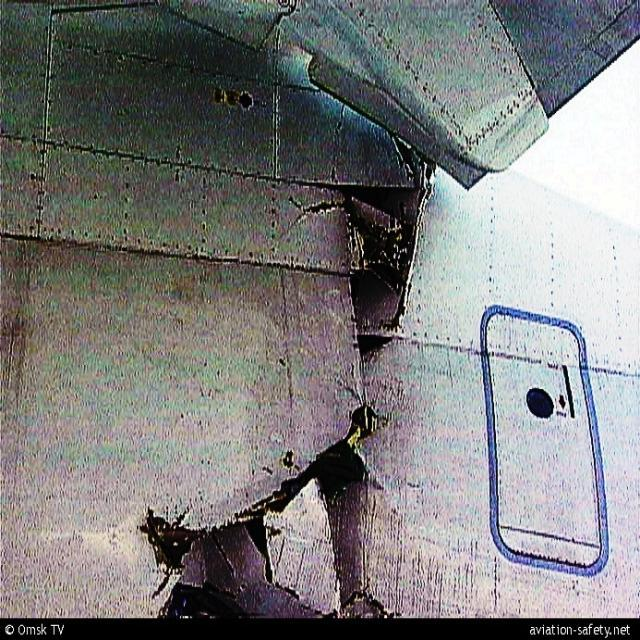crack: (140, 136, 444, 603)
